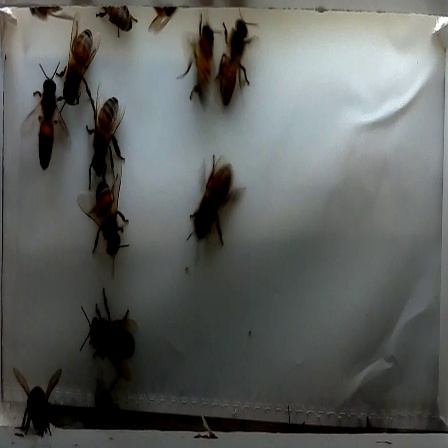bee: (172, 155, 253, 254), (70, 176, 137, 272), (67, 285, 145, 367), (52, 15, 104, 117), (25, 63, 72, 172), (81, 88, 130, 191), (4, 362, 66, 441), (212, 12, 256, 117), (184, 14, 219, 109)
